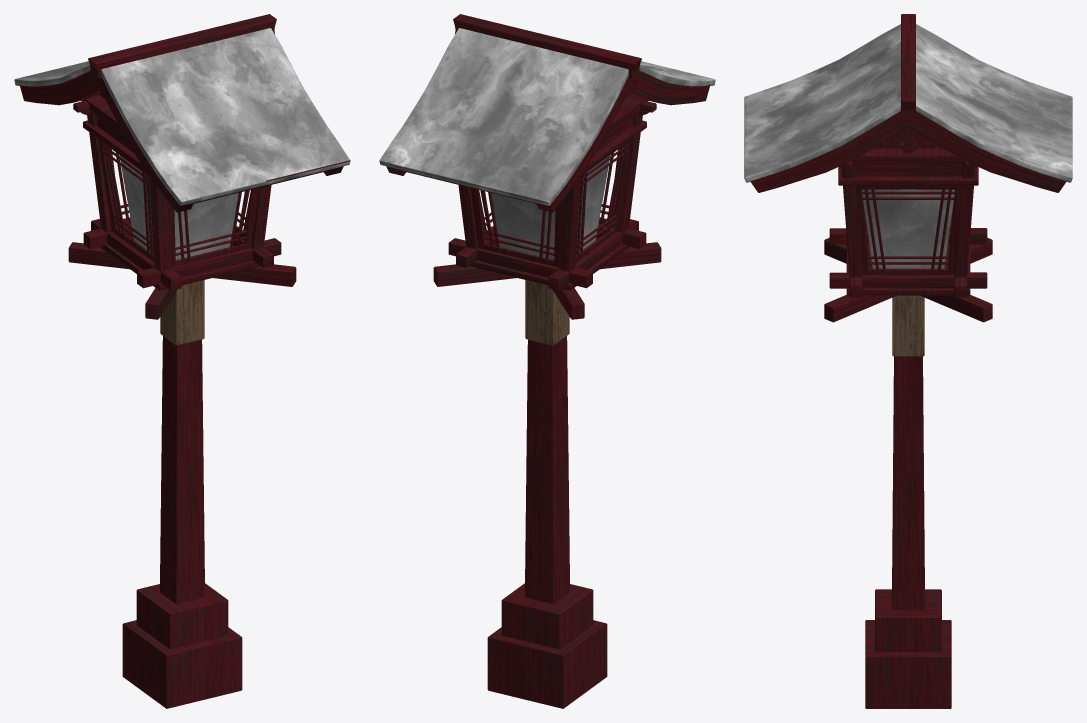
The model's file is SM_lamp.fbx.
The picture shows the model from 3 angles, left to right: view 1: azimuth 30°, elevation 25°; view 2: azimuth 150°, elevation 25°; view 3: azimuth 270°, elevation 25°; orthographic projection.
Parts seen in each view (by area): view 1: SM_lamp; view 2: SM_lamp; view 3: SM_lamp.
Boxes of the visible parts, x1,y1,x2,y2 form: SM_lamp: (14, 14, 350, 708); SM_lamp: (379, 14, 715, 708); SM_lamp: (744, 14, 1072, 708).
Bounding box in the file's own units: 82.06 × 131 × 278.
4 materials, 4 textured.
